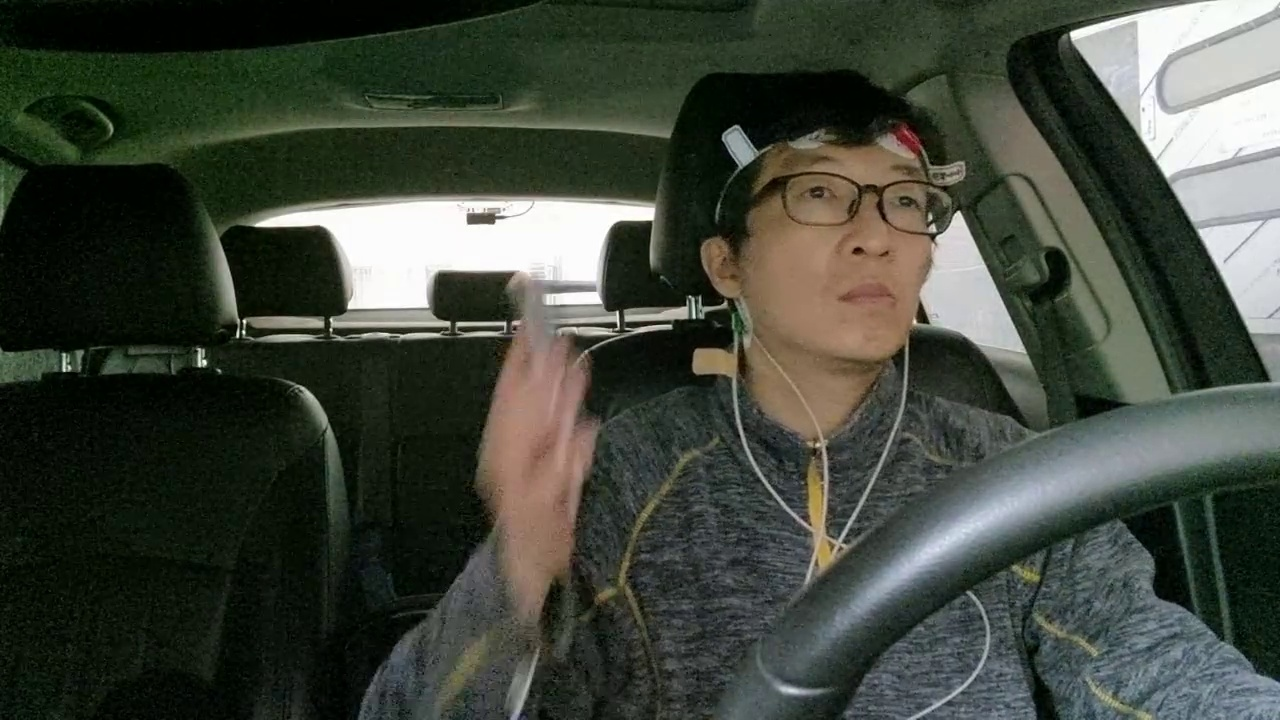phone: (463, 241, 632, 484)
